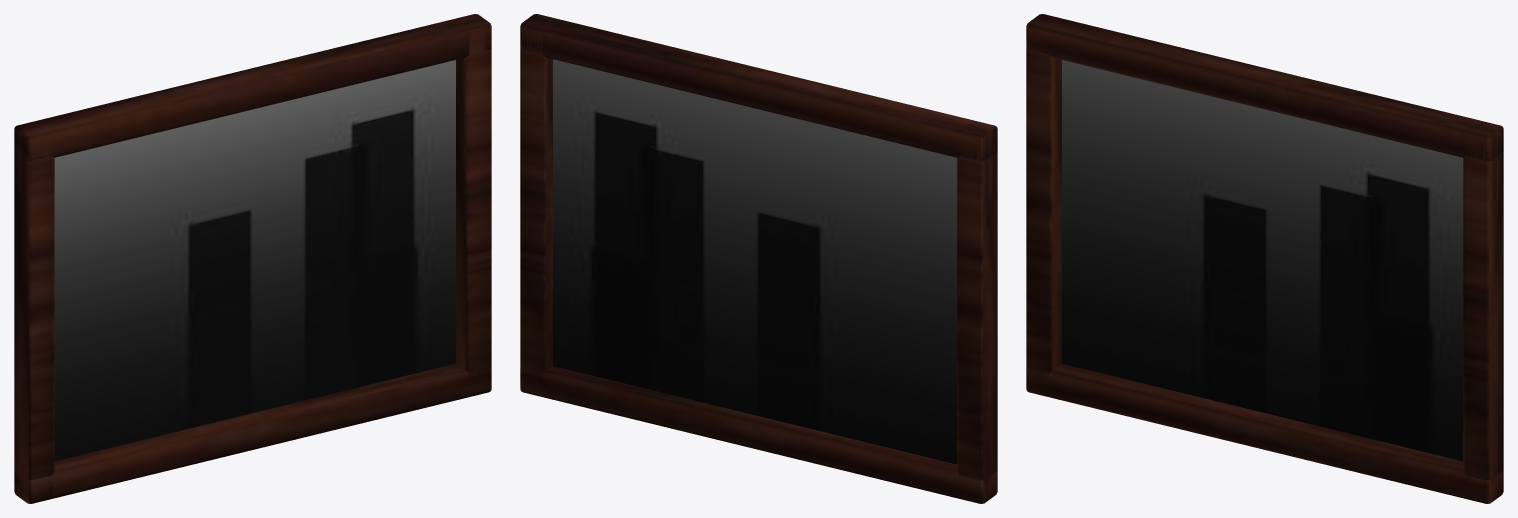
File: gallery_photo_2.glb
The picture shows the model from 3 angles, left to right: view 1: azimuth 30°, elevation 25°; view 2: azimuth 150°, elevation 25°; view 3: azimuth 330°, elevation 25°; orthographic projection.
Visible parts, largest first — view 1: Photo, Prop dark wood; view 2: Photo, Prop dark wood; view 3: Photo, Prop dark wood.
Boxes of the visible parts, x1,y1,x2,y2 form: Photo: [54, 60, 455, 461]; Prop dark wood: [14, 14, 491, 503]; Photo: [553, 59, 957, 464]; Prop dark wood: [520, 14, 997, 503]; Photo: [1062, 60, 1463, 461]; Prop dark wood: [1026, 14, 1503, 503].
Size of the model in its own units: 0.5 by 0.38 by 0.03.
2 materials, 2 textured.
